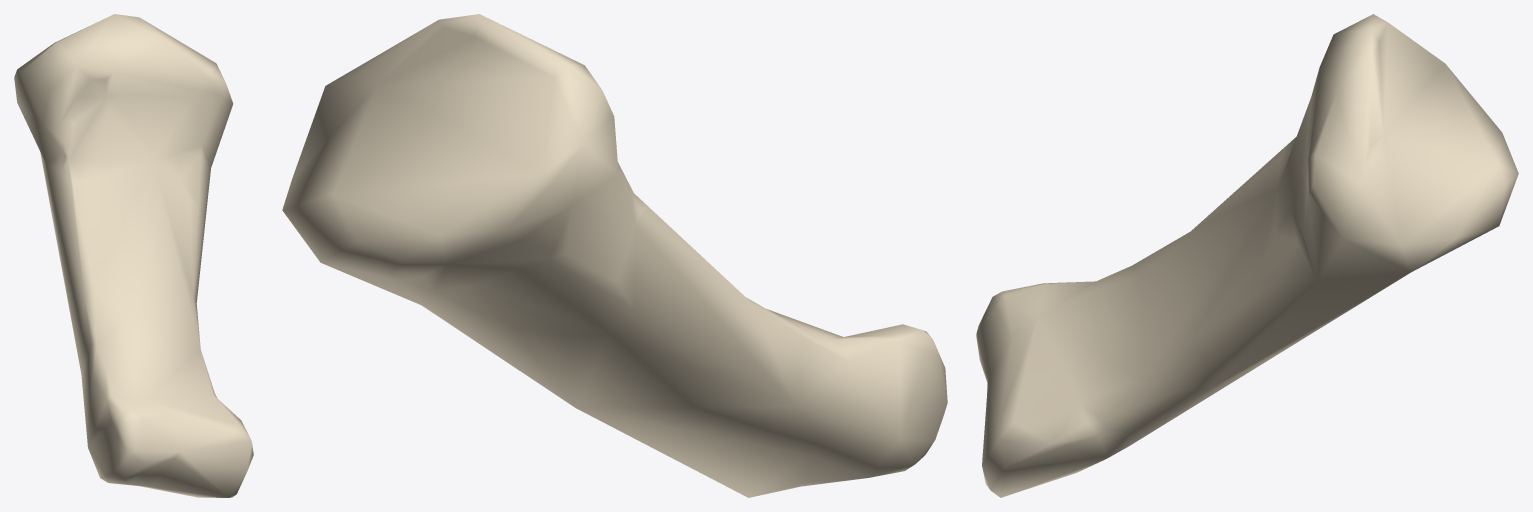
The model's file is middle-phalanx-of-second-finger-of-hand-r.glb.
3 renders of one model, left to right at view 1: azimuth 30°, elevation 25°; view 2: azimuth 150°, elevation 25°; view 3: azimuth 270°, elevation 25°, orthographic. The views are drawn at different scales.
Visible parts, largest first — view 1: Middle phalanx of second finger of hand.r; view 2: Middle phalanx of second finger of hand.r; view 3: Middle phalanx of second finger of hand.r.
Part boxes in pixels (x1=…): Middle phalanx of second finger of hand.r: x1=14, y1=14, x2=253, y2=497; Middle phalanx of second finger of hand.r: x1=282, y1=14, x2=947, y2=497; Middle phalanx of second finger of hand.r: x1=976, y1=14, x2=1518, y2=497.
Bounding box in the file's own units: 0.0151 × 0.0213 × 0.0216.
